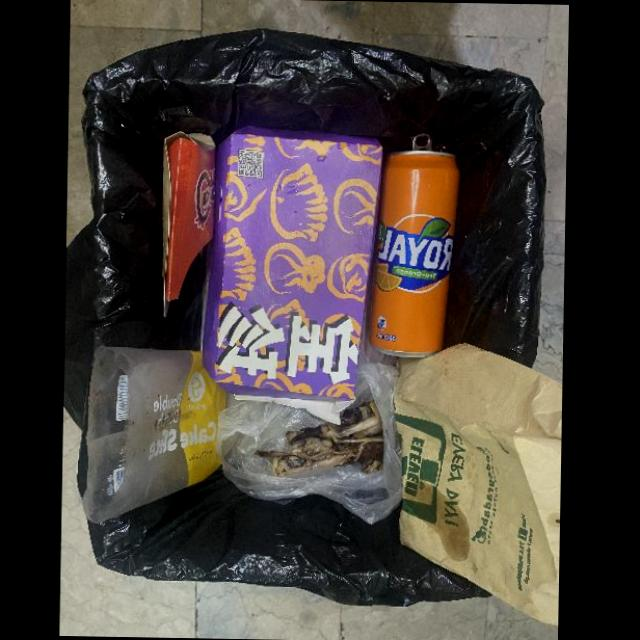bao_bi_thuc_pham: (78, 337, 227, 522)
carton: (200, 123, 383, 423), (162, 129, 215, 317)
giay: (393, 342, 562, 625)
nhom: (368, 133, 460, 357)
thuc_an_thua: (254, 394, 384, 476)
tui_ni_long: (216, 358, 402, 523)
